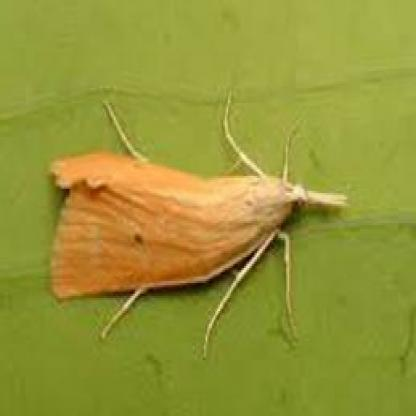stem-borer: (45, 95, 349, 360)
